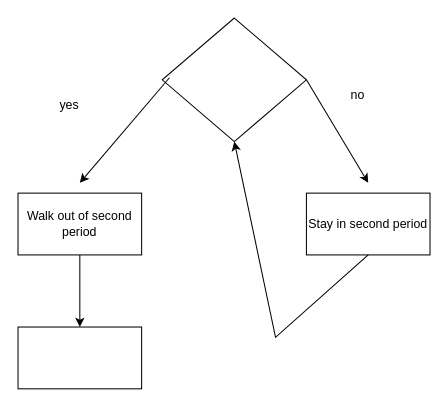
Image size: 448x407. Some labels were removed from this diagram. Each missing label, with the centre of its shape:
"Is second period done?" goes at [233,79].
"Take a left and enter Cisco" goes at [79,357].
